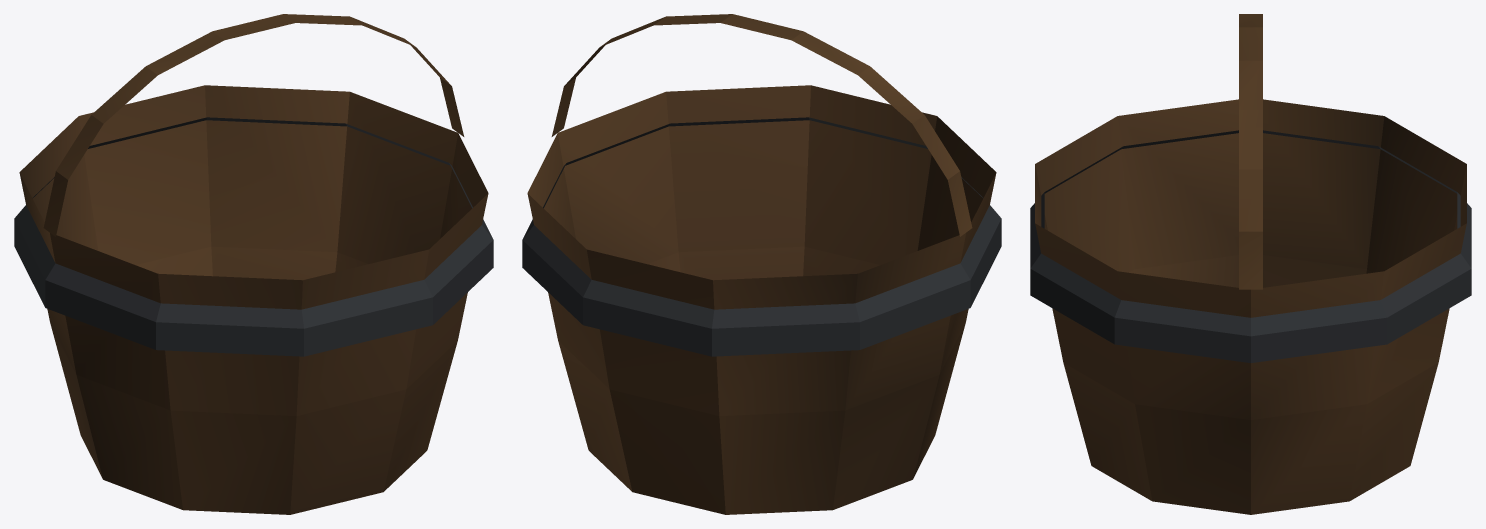
Rendered from bucket.glb.
3 renders of one model, left to right at view 1: azimuth 30°, elevation 25°; view 2: azimuth 150°, elevation 25°; view 3: azimuth 270°, elevation 25°, orthographic. The views are drawn at different scales.
Parts seen in each view (by area): view 1: bucket; view 2: bucket; view 3: bucket.
Part boxes in pixels (bbox=[...]): bucket: bbox=[14, 14, 493, 514]; bucket: bbox=[522, 14, 1001, 514]; bucket: bbox=[1030, 14, 1471, 514].
Bounding box in the file's own units: 0.47 × 0.4474 × 0.447.
